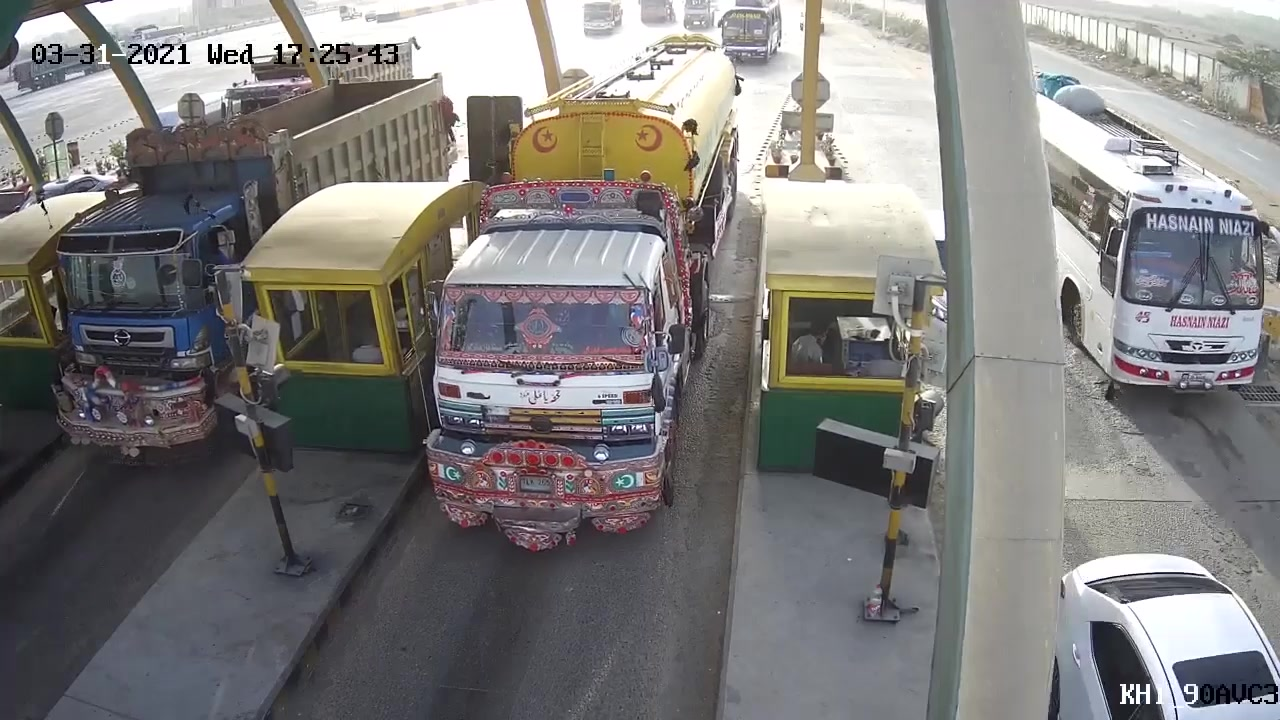F6: (412, 30, 743, 548)
